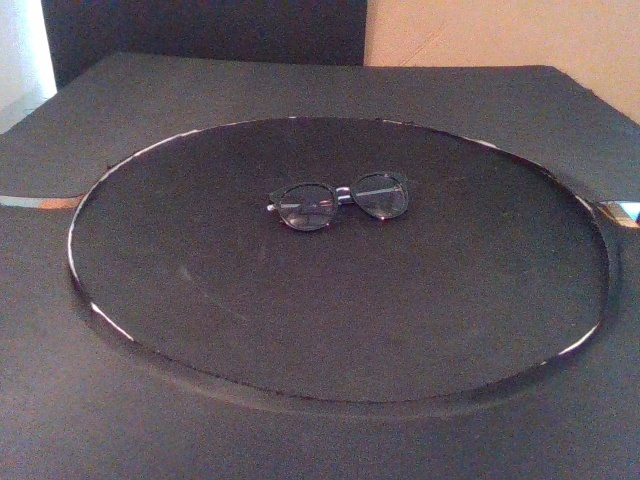glasses: (266, 169, 411, 233)
